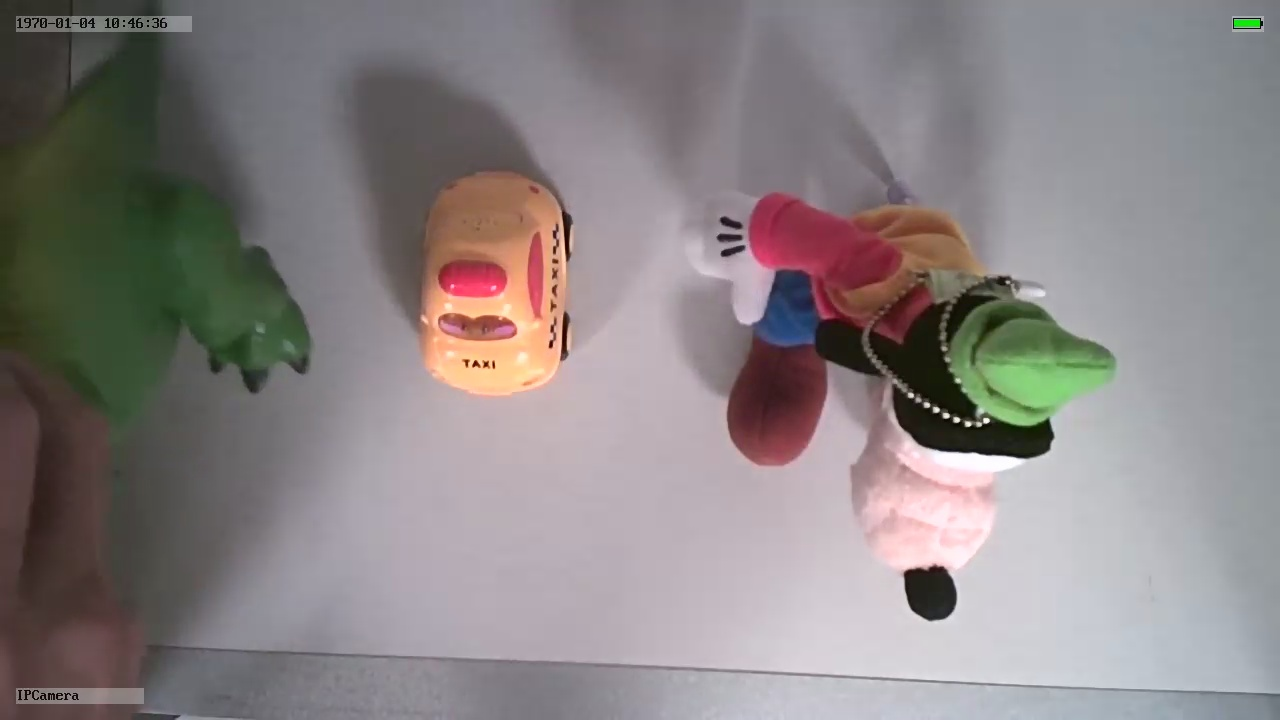car: (416, 164, 580, 394)
goofy: (674, 189, 1124, 634)
